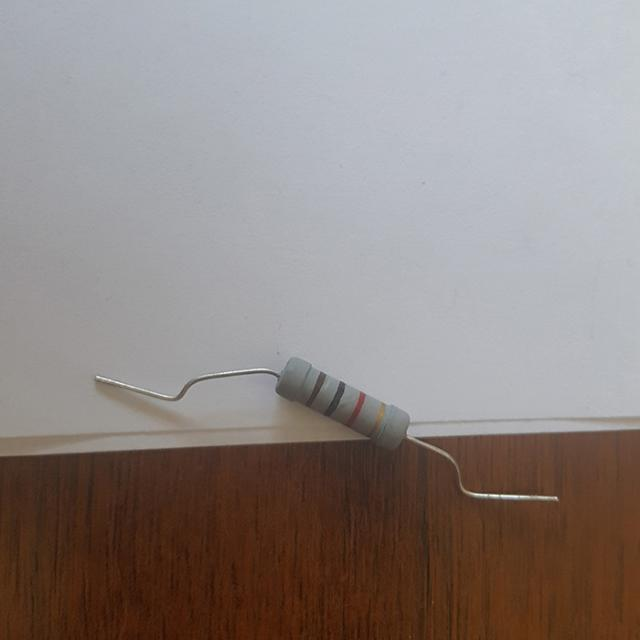black: (325, 381, 345, 416)
brown: (306, 371, 325, 407)
gold: (367, 402, 383, 437)
red: (346, 391, 364, 427)
resistor: (263, 348, 420, 464)
